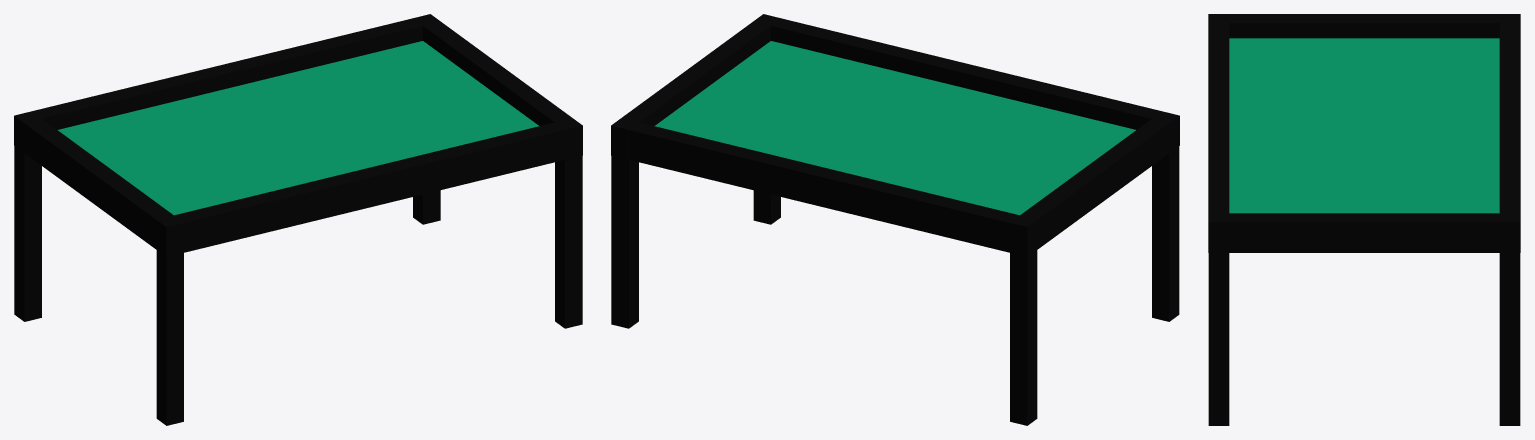
File: Table.gltf
3 renders of one model, left to right at view 1: azimuth 30°, elevation 25°; view 2: azimuth 150°, elevation 25°; view 3: azimuth 270°, elevation 25°, orthographic. The views are drawn at different scales.
Parts seen in each view (by area): view 1: Base, Side2, Side1, Side4, Side3, Leg4, Leg3, Leg1, Leg2; view 2: Base, Side1, Side2, Side4, Side3, Leg1, Leg2, Leg4, Leg3; view 3: Base, Side3, Side4, Side1, Side2, Leg2, Leg3.
Part boxes in pixels (left/top/right/bottom): Base: left=58, top=41, right=539, bottom=215; Side2: left=174, top=122, right=565, bottom=252; Side1: left=32, top=18, right=422, bottom=129; Side4: left=14, top=111, right=184, bottom=256; Side3: left=413, top=14, right=582, bottom=159; Leg4: left=156, top=250, right=183, bottom=425; Leg3: left=555, top=155, right=582, bottom=328; Leg1: left=14, top=146, right=41, bottom=321; Leg2: left=413, top=190, right=440, bottom=224; Base: left=654, top=41, right=1135, bottom=215; Side1: left=629, top=122, right=1019, bottom=252; Side2: left=771, top=18, right=1161, bottom=129; Side4: left=1009, top=111, right=1179, bottom=256; Side3: left=611, top=14, right=780, bottom=159; Leg1: left=1010, top=250, right=1037, bottom=425; Leg2: left=611, top=155, right=638, bottom=328; Leg4: left=1152, top=146, right=1179, bottom=321; Leg3: left=753, top=190, right=780, bottom=224; Base: left=1229, top=38, right=1499, bottom=213; Side3: left=1208, top=213, right=1520, bottom=252; Side4: left=1208, top=14, right=1520, bottom=38; Side1: left=1499, top=23, right=1520, bottom=213; Side2: left=1208, top=23, right=1229, bottom=213; Leg2: left=1499, top=253, right=1520, bottom=425; Leg3: left=1208, top=253, right=1229, bottom=425.
Size of the model in its own units: 167 by 76.07 by 106.
